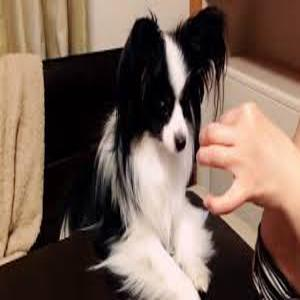yell: (59, 5, 229, 299)
